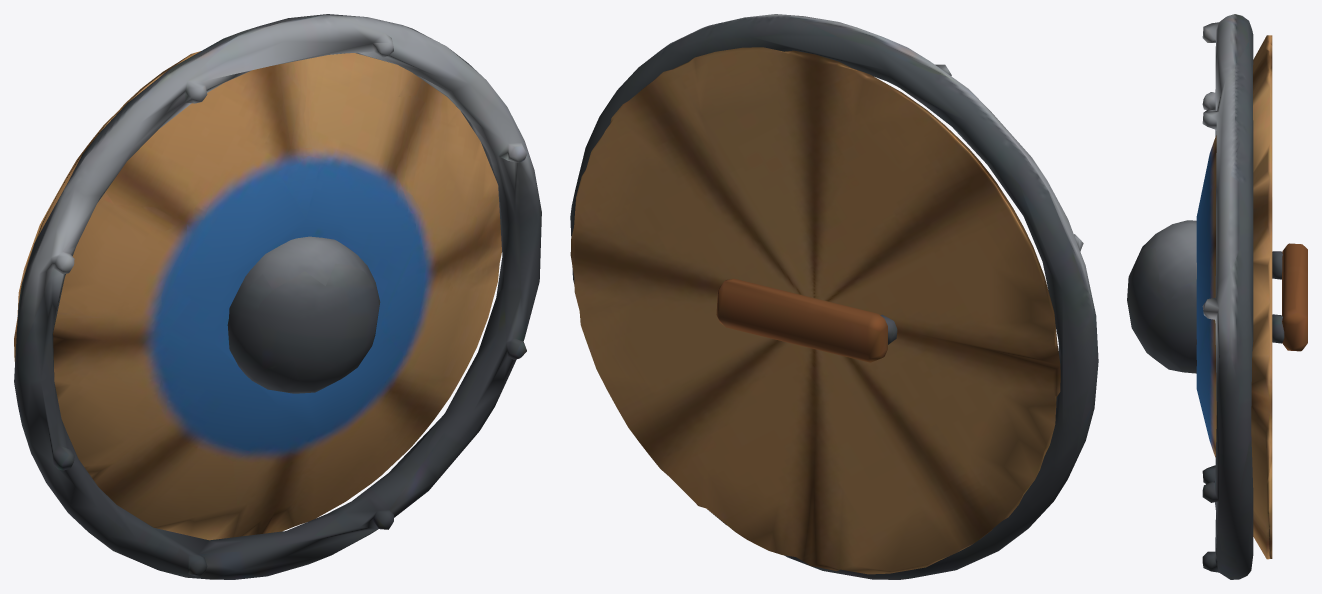
Rendered from round-shield.glb.
3 renders of one model, left to right at view 1: azimuth 30°, elevation 25°; view 2: azimuth 150°, elevation 25°; view 3: azimuth 270°, elevation 25°, orthographic. The views are drawn at different scales.
Visible parts, largest first — view 1: wood; view 2: wood; view 3: wood.
Boxes of the visible parts, bbox=[...] form: wood: bbox=[14, 14, 541, 579]; wood: bbox=[570, 14, 1098, 579]; wood: bbox=[1127, 14, 1307, 579].
Bounding box in the file's own units: 0.5982 × 0.5995 × 0.1915.
1 material, 1 textured.
